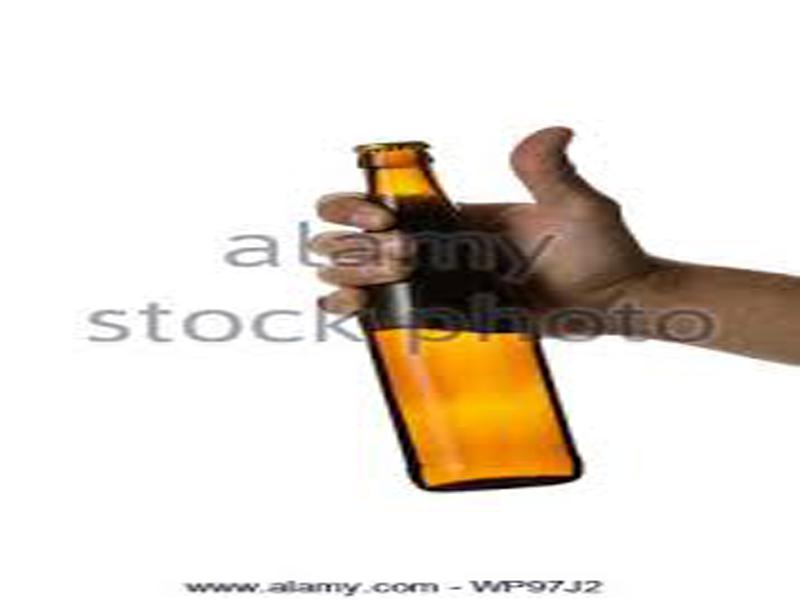Beer: (349, 145, 585, 489)
